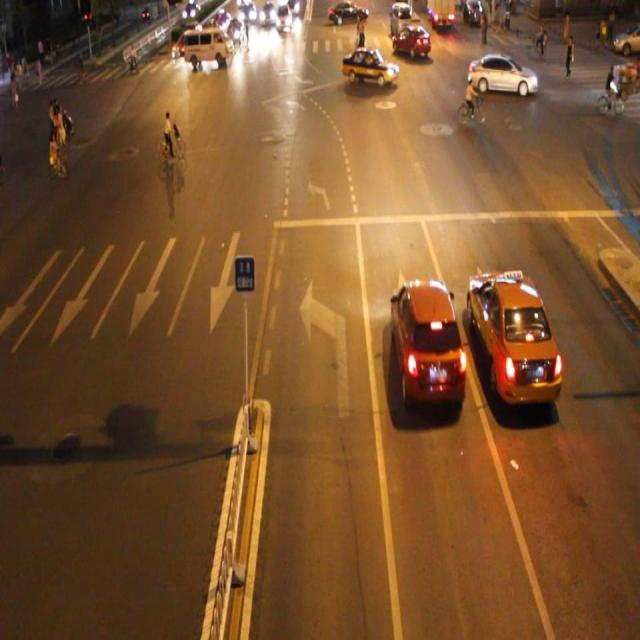car: (468, 272, 562, 404), (392, 282, 463, 404), (467, 52, 535, 98), (342, 45, 398, 88), (391, 24, 430, 59)
truck: (183, 28, 234, 66)
